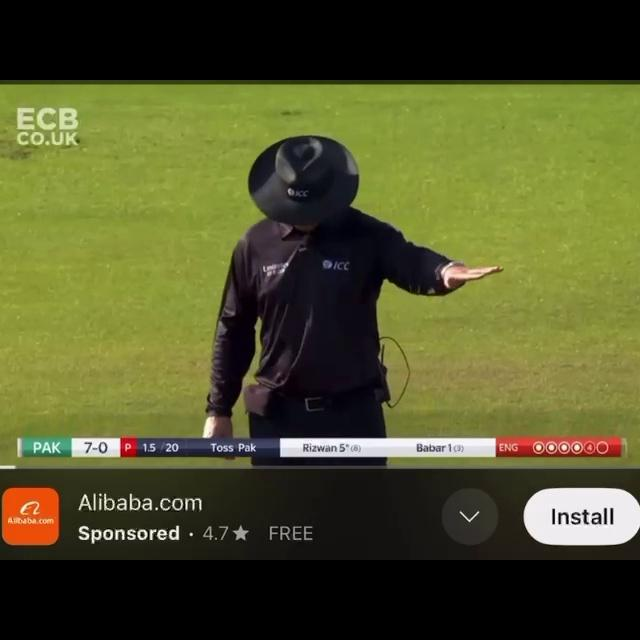umpire: (124, 99, 622, 413)
